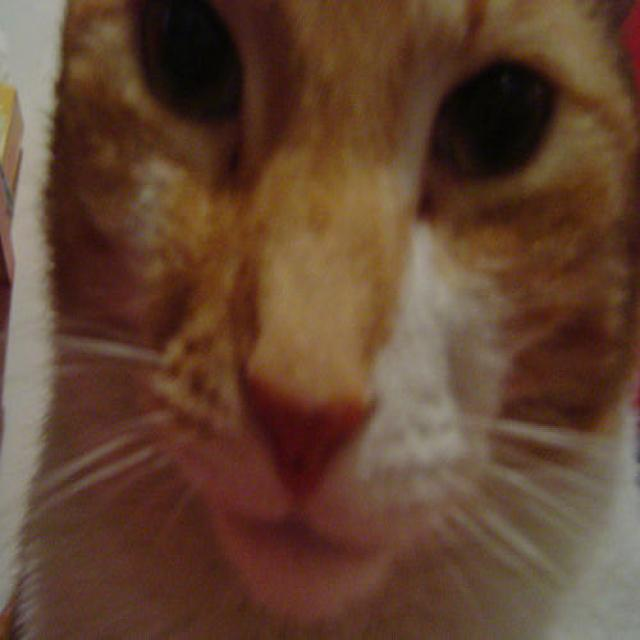cat: (7, 1, 640, 639)
